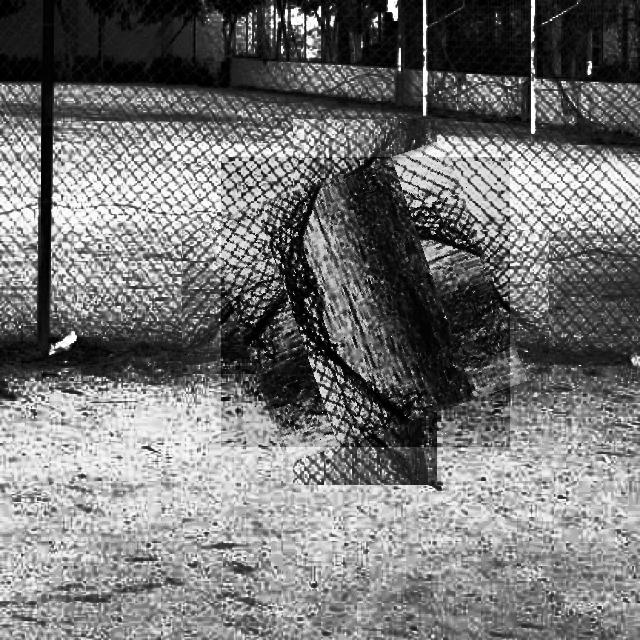anomaly-fence: (221, 157, 510, 447)
